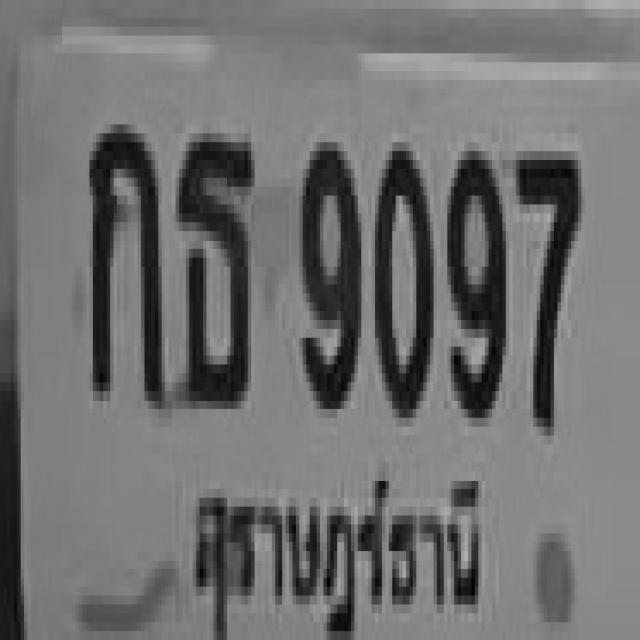0: (372, 134, 435, 418)
10GorGai: (86, 111, 162, 406)
33ThorThong: (176, 124, 254, 403)
7: (513, 142, 578, 427)
9: (444, 142, 508, 422), (299, 137, 362, 412)
SuratThani: (184, 450, 491, 637)
